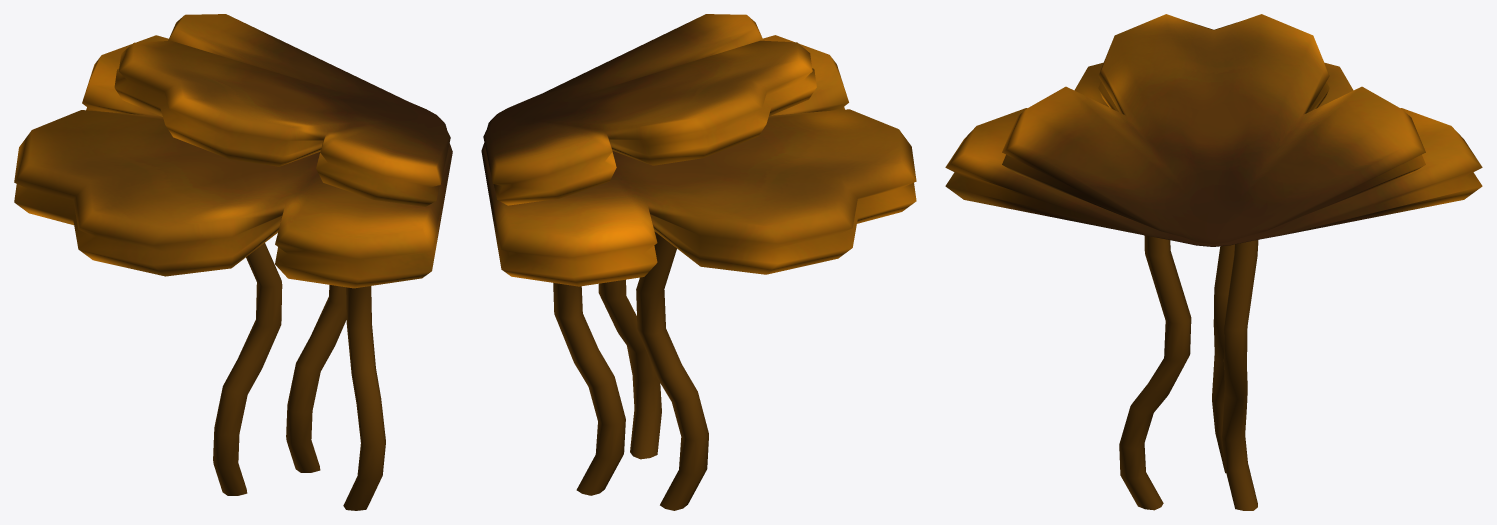
File: algaes2.fbx
3 views of the same model, side by side, from view 1: azimuth 30°, elevation 25°; view 2: azimuth 150°, elevation 25°; view 3: azimuth 270°, elevation 25° (orthographic). The views are drawn at different scales.
Parts seen in each view (by area): view 1: Algae2; view 2: Algae2; view 3: Algae2.
Boxes of the visible parts, x1,y1,x2,y2 form: Algae2: (14,14,452,510); Algae2: (481,14,916,510); Algae2: (945,14,1482,510).
Bounding box in the file's own units: 139 × 149 × 175.
